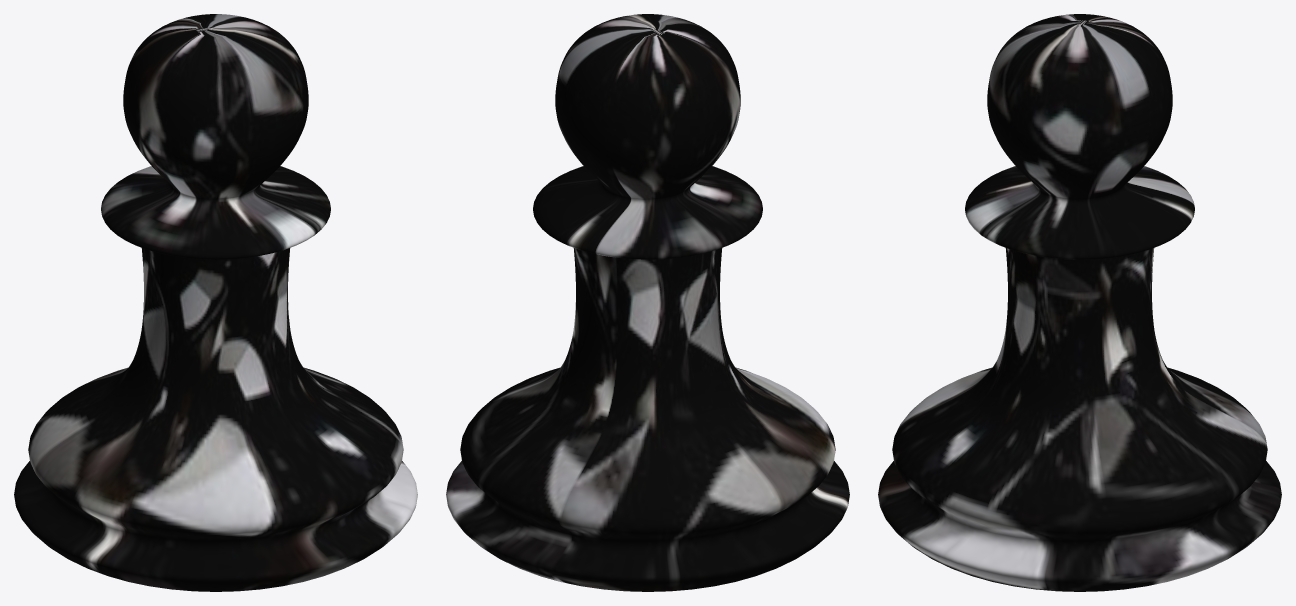
The model's file is pawn.obj.
3 renders of one model, left to right at view 1: azimuth 30°, elevation 25°; view 2: azimuth 150°, elevation 25°; view 3: azimuth 270°, elevation 25°, orthographic.
Parts seen in each view (by area): view 1: mesh002; view 2: mesh002; view 3: mesh002.
Boxes of the visible parts, x1,y1,x2,y2 form: mesh002: (14, 14, 417, 591); mesh002: (446, 14, 849, 591); mesh002: (878, 14, 1281, 591).
Size of the model in its own units: 8 by 10.95 by 8.
